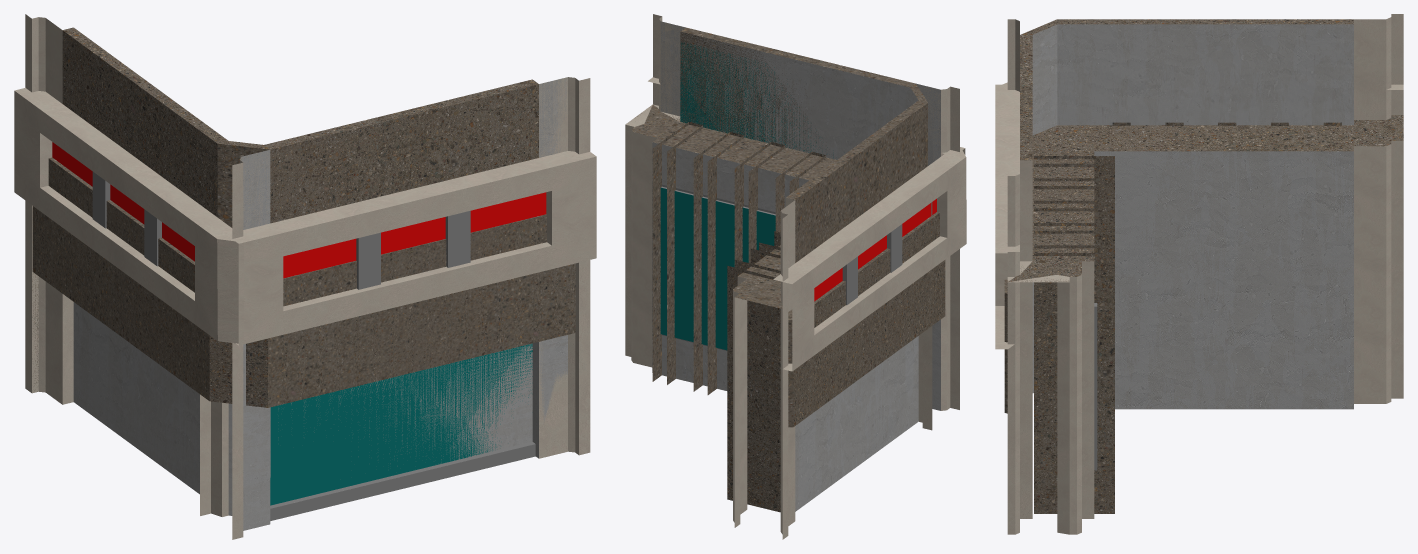
File: Building01.fbx
3 renders of one model, left to right at view 1: azimuth 30°, elevation 25°; view 2: azimuth 150°, elevation 25°; view 3: azimuth 270°, elevation 25°, orthographic. The views are drawn at different scales.
Parts seen in each view (by area): view 1: Building01_CornerTop_A, Building01_Corner_B, Building01_CornerBottom_A, Building01_Wall_A, Building01_WallTop_A, Building01_Corner_A, Building01_WallBottom_A, Building01_Wall_B, Building01_WallBottom_B; view 2: Building01_CornerBottom_A, Building01_Corner_A, Building01_Corner_B, Building01_WallBottom_A, Building01_CornerTop_A, Building01_Wall_A, Building01_WallBottom_B, Building01_WallTop_A; view 3: Building01_CornerBottom_A, Building01_Corner_A, Building01_Corner_B, Building01_WallBottom_A, Building01_CornerTop_A, Building01_Wall_A, Building01_WallBottom_B, Building01_WallTop_A.
Part boxes in pixels (x1,y1,x2,y2): Building01_CornerTop_A: [14, 88, 596, 515]; Building01_Corner_B: [25, 15, 590, 508]; Building01_CornerBottom_A: [25, 15, 538, 227]; Building01_Wall_A: [232, 77, 590, 539]; Building01_WallTop_A: [226, 157, 596, 539]; Building01_Corner_A: [25, 14, 578, 515]; Building01_WallBottom_A: [200, 77, 584, 516]; Building01_Wall_B: [270, 343, 536, 504]; Building01_WallBottom_B: [225, 78, 590, 514]; Building01_CornerBottom_A: [625, 27, 927, 527]; Building01_Corner_A: [660, 17, 918, 539]; Building01_Corner_B: [653, 18, 945, 537]; Building01_WallBottom_A: [625, 15, 959, 430]; Building01_CornerTop_A: [648, 77, 966, 537]; Building01_Wall_A: [653, 14, 959, 410]; Building01_WallBottom_B: [625, 17, 930, 429]; Building01_WallTop_A: [934, 147, 965, 409]; Building01_CornerBottom_A: [1007, 14, 1403, 534]; Building01_Corner_A: [1007, 14, 1403, 534]; Building01_Corner_B: [1004, 14, 1403, 534]; Building01_WallBottom_A: [1007, 19, 1097, 534]; Building01_CornerTop_A: [995, 82, 1403, 530]; Building01_Wall_A: [1007, 19, 1019, 534]; Building01_WallBottom_B: [1008, 266, 1069, 533]; Building01_WallTop_A: [995, 84, 1019, 533].
Bounding box in the file's own units: 619 × 600 × 619.
